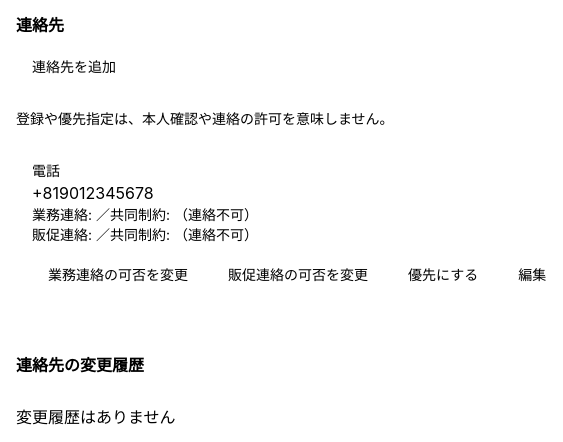
Scenario: 優先にする が 404 なら消えた行と履歴を再取得する
This screenshot has width=563, height=442.
Click the button "優先にする".
click(443, 275)  # box top-left (392, 257), bottom-right (494, 293)
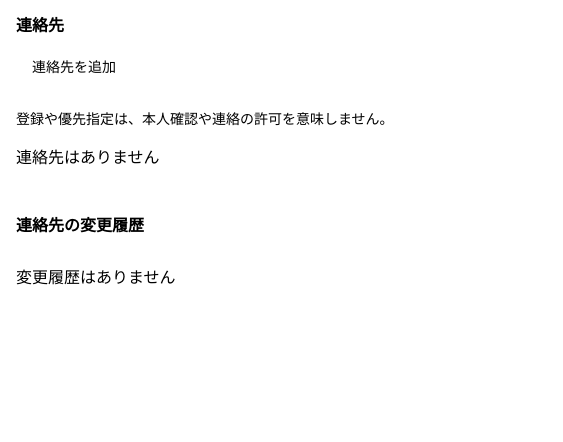
Now the text "連絡先はありません" is shown, box top-left (16, 147), bottom-right (160, 167)
